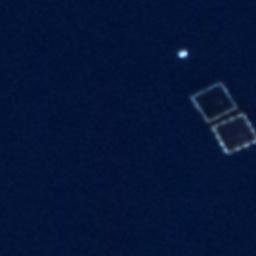square_solid: (185, 80, 242, 126), (208, 109, 256, 159)
